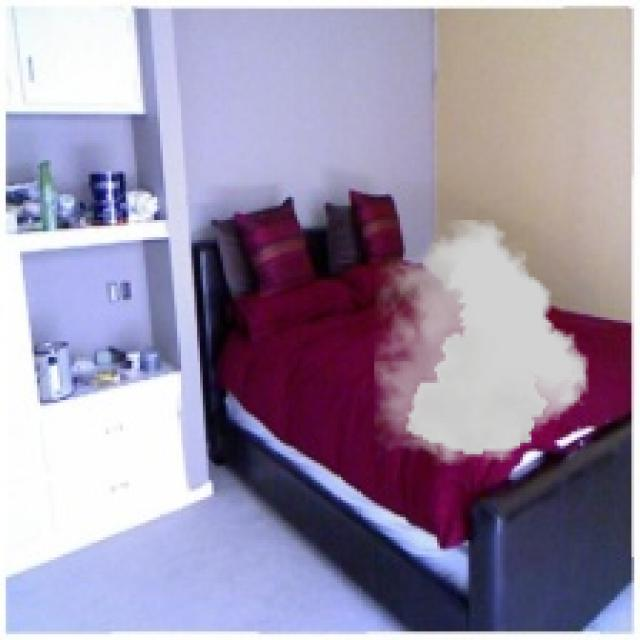smoke: (374, 220, 589, 466)
